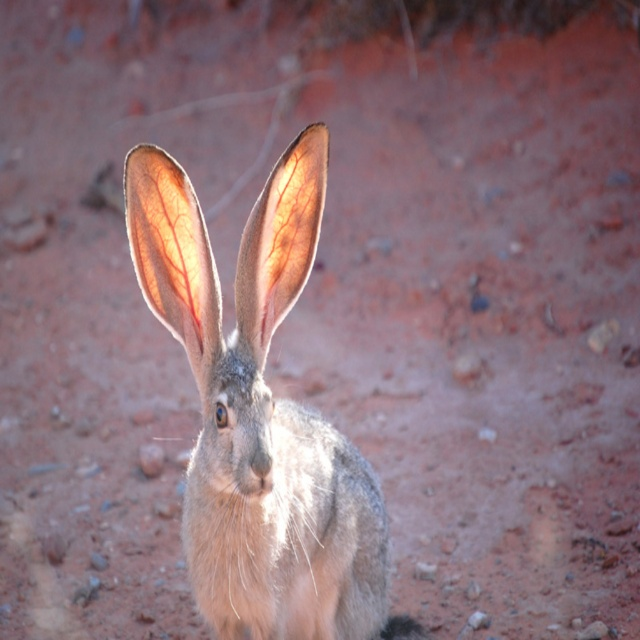Rabbit: (123, 121, 395, 639)
